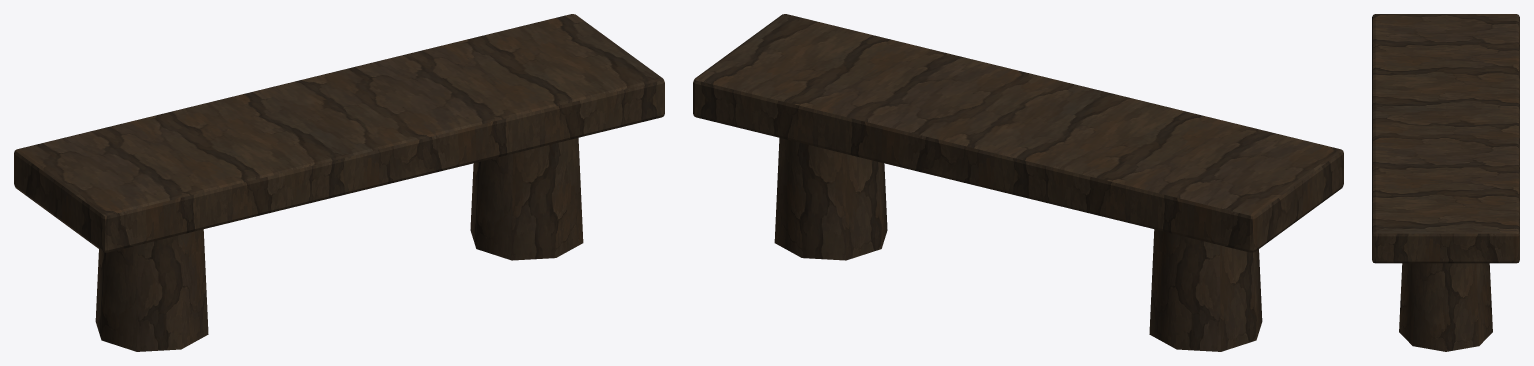
3 views of the same model, side by side, from view 1: azimuth 30°, elevation 25°; view 2: azimuth 150°, elevation 25°; view 3: azimuth 270°, elevation 25° (orthographic). The views are drawn at different scales.
Visible parts, largest first — view 1: Bench stump leg; view 2: Bench stump leg; view 3: Bench stump leg.
Boxes of the visible parts, x1,y1,x2,y2 form: Bench stump leg: [14, 14, 664, 351]; Bench stump leg: [693, 14, 1343, 351]; Bench stump leg: [1372, 14, 1519, 351].
Bounding box in the file's own units: 3 × 0.86 × 0.85.
Materials: 2 (1 with a texture image).
